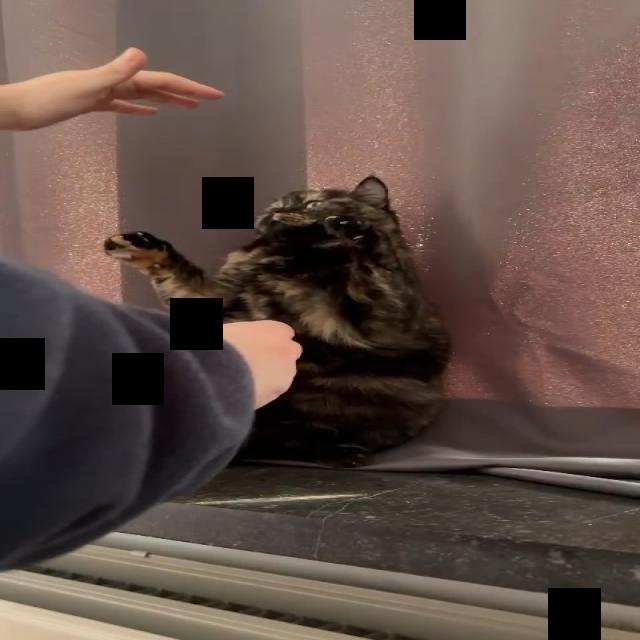authorized: (101, 174, 452, 468)
